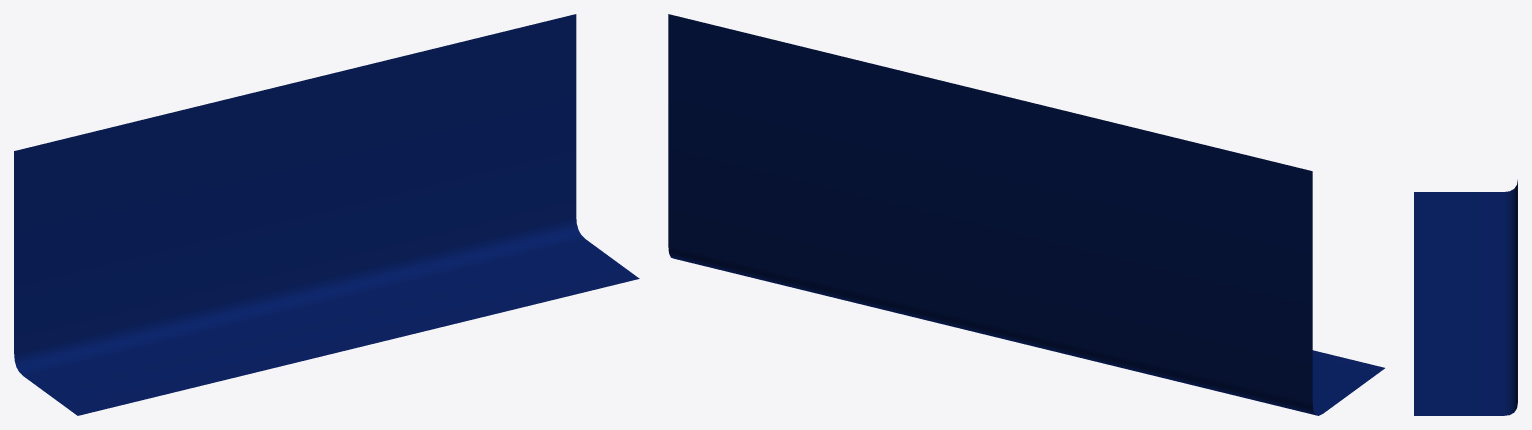
3 renders of one model, left to right at view 1: azimuth 30°, elevation 25°; view 2: azimuth 150°, elevation 25°; view 3: azimuth 270°, elevation 25°, orthographic. The views are drawn at different scales.
Parts seen in each view (by area): view 1: Object001; view 2: Object001; view 3: Object001.
Part boxes in pixels (box(x1,y1,x2,y2)): Object001: box(14, 14, 639, 415); Object001: box(668, 14, 1384, 415); Object001: box(1414, 180, 1517, 415).
Bounding box in the file's own units: 13119 × 4867 × 2573.
